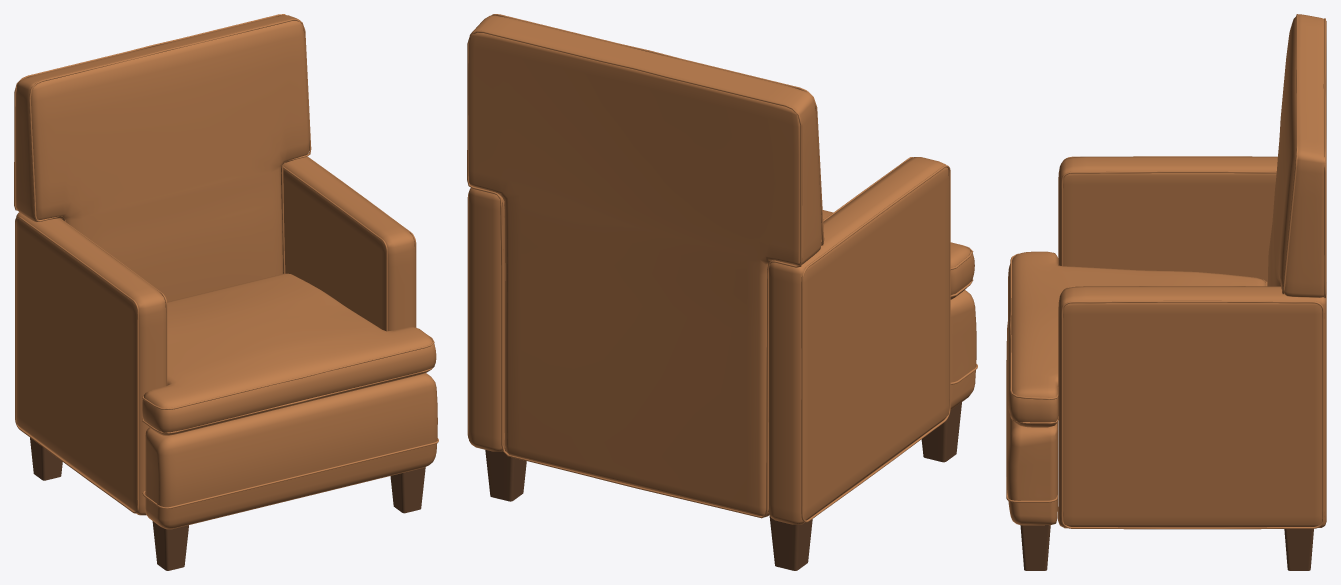
File: smoking_sofa.fbx
3 renders of one model, left to right at view 1: azimuth 30°, elevation 25°; view 2: azimuth 150°, elevation 25°; view 3: azimuth 270°, elevation 25°, orthographic. The views are drawn at different scales.
Visible parts, largest first — view 1: polySurface88; view 2: polySurface88; view 3: polySurface88.
Part boxes in pixels (bbox=[...]): polySurface88: bbox=[14, 14, 438, 570]; polySurface88: bbox=[467, 14, 977, 570]; polySurface88: bbox=[1006, 14, 1326, 570].
Bounding box in the file's own units: 20.4 × 27.67 × 18.96.
